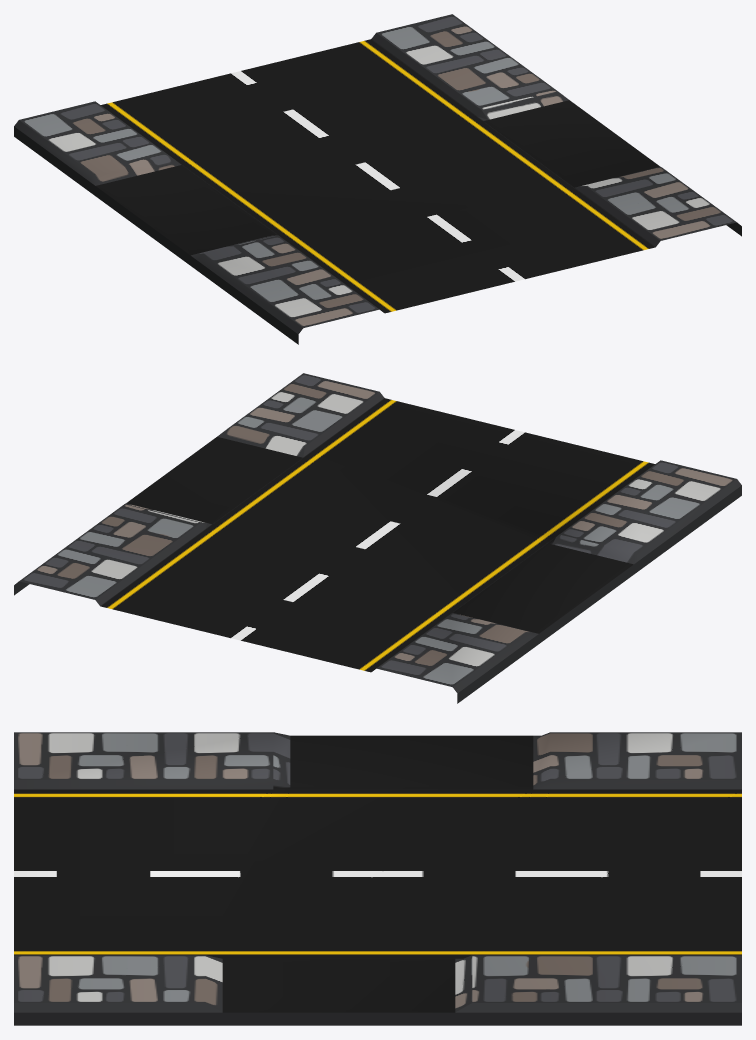
File: Road_Straight_2Driveways.fbx
3 renders of one model, top to bottom at view 1: azimuth 30°, elevation 25°; view 2: azimuth 150°, elevation 25°; view 3: azimuth 270°, elevation 25°, orthographic. The views are drawn at different scales.
Parts seen in each view (by area): view 1: Road_Straight_2Driveways; view 2: Road_Straight_2Driveways; view 3: Road_Straight_2Driveways.
Boxes of the visible parts, box(x1,y1,x2,y2) form: Road_Straight_2Driveways: box(14, 14, 741, 344); Road_Straight_2Driveways: box(14, 373, 741, 703); Road_Straight_2Driveways: box(14, 732, 741, 1025).
Size of the model in its own units: 900 by 30 by 1000.
